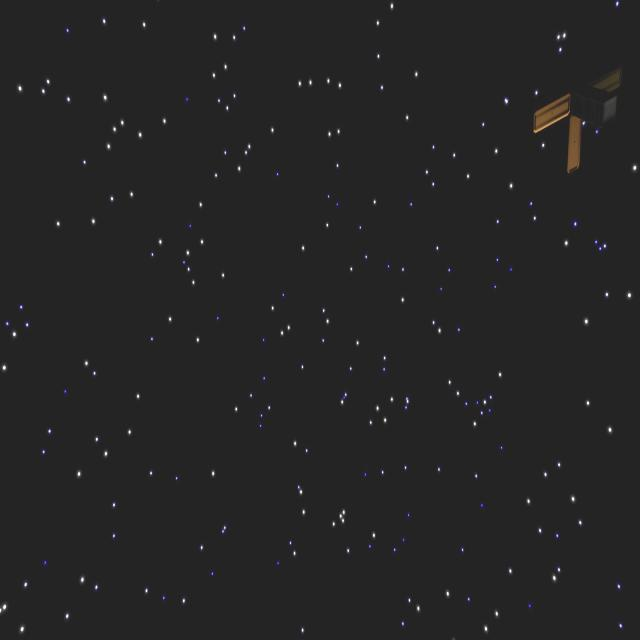satellite: (528, 57, 621, 176)
